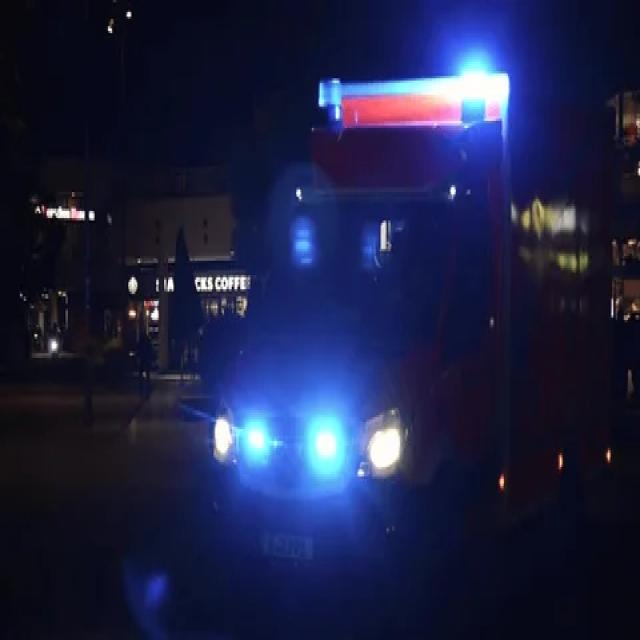emergency lights: (310, 73, 511, 179), (246, 414, 348, 485)
